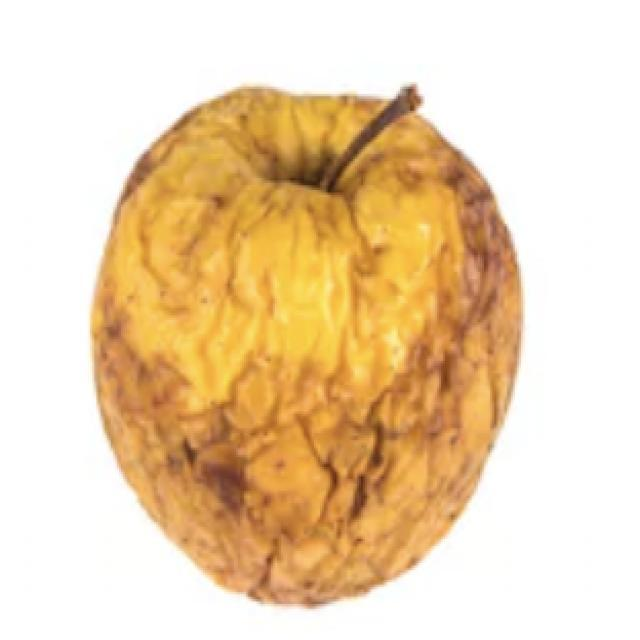Rotten: (123, 104, 527, 578)
